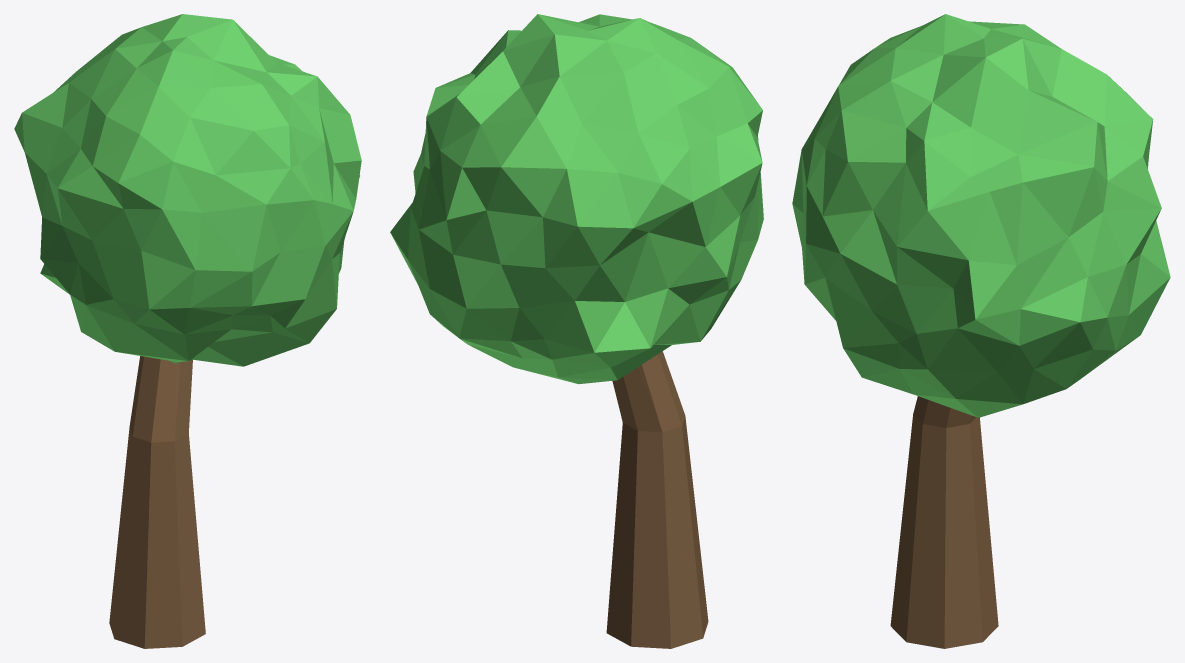
File: treeSummer.gltf
3 renders of one model, left to right at view 1: azimuth 30°, elevation 25°; view 2: azimuth 150°, elevation 25°; view 3: azimuth 270°, elevation 25°, orthographic. The views are drawn at different scales.
Parts seen in each view (by area): view 1: Icosphere, Circle; view 2: Icosphere, Circle; view 3: Icosphere, Circle.
Part boxes in pixels (x1,y1,x2,y2): Icosphere: (14, 14, 361, 366); Circle: (109, 356, 205, 648); Icosphere: (390, 14, 763, 384); Circle: (606, 351, 708, 648); Icosphere: (792, 14, 1170, 417); Circle: (890, 396, 998, 648).
Size of the model in its own units: 5.41 by 9.37 by 5.17.
